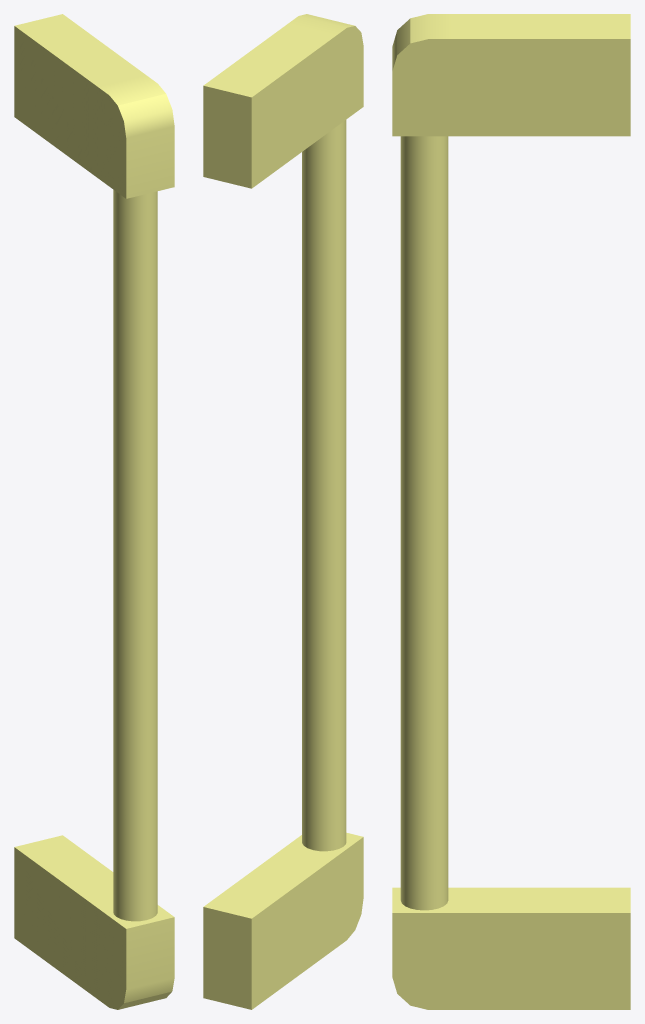
File: handle_1.glb
3 renders of one model, left to right at view 1: azimuth 30°, elevation 25°; view 2: azimuth 150°, elevation 25°; view 3: azimuth 270°, elevation 25°, orthographic. The views are drawn at different scales.
Visible parts, largest first — view 1: Plane; view 2: Plane; view 3: Plane.
Boxes of the visible parts, <box> form: Plane: <box>14,14,174,1009</box>; Plane: <box>203,14,363,1009</box>; Plane: <box>392,14,630,1009</box>.
Bounding box in the file's own units: 0.01 × 0.18 × 0.04.
